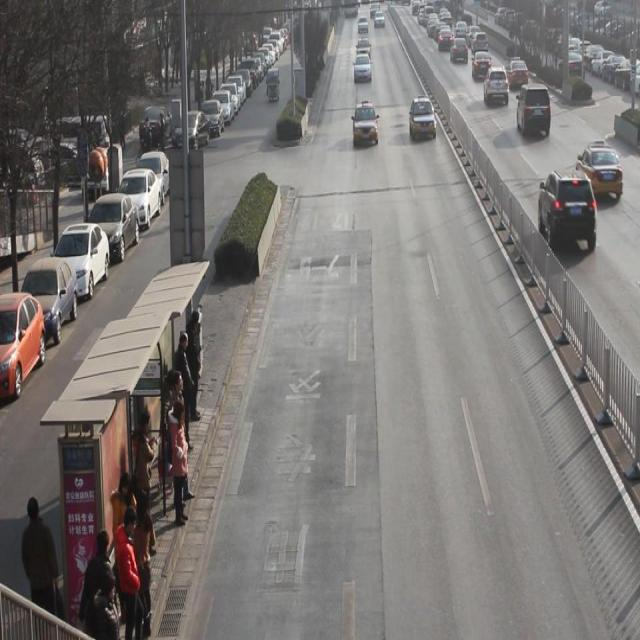car: (538, 171, 598, 254), (576, 141, 624, 204), (516, 84, 551, 139), (408, 98, 436, 144), (353, 100, 378, 146), (484, 67, 509, 108), (507, 56, 529, 92), (471, 50, 492, 82), (354, 55, 373, 84), (567, 53, 586, 80), (451, 37, 468, 66), (439, 29, 453, 52), (355, 38, 371, 56), (473, 33, 488, 50), (357, 16, 369, 34), (374, 11, 385, 30)
